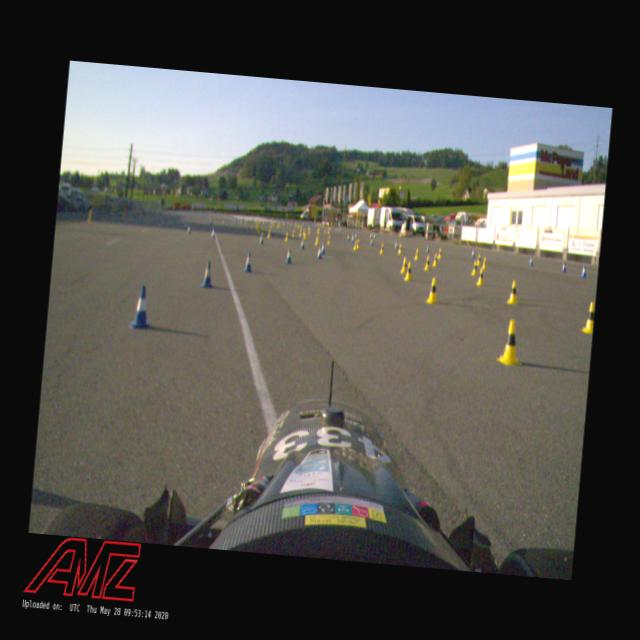blue_cone: (128, 283, 154, 331), (200, 260, 214, 288), (244, 251, 252, 272), (284, 247, 292, 264), (580, 264, 587, 278), (316, 244, 322, 259), (560, 260, 567, 272), (320, 242, 326, 255), (528, 254, 534, 266), (300, 238, 305, 250), (470, 248, 476, 258)
yellow_cone: (498, 317, 522, 367), (582, 300, 595, 332), (426, 276, 439, 304), (506, 278, 520, 304), (476, 266, 486, 288), (403, 261, 413, 281), (399, 256, 408, 274), (423, 253, 431, 270), (470, 260, 478, 276), (431, 252, 438, 268), (413, 247, 420, 260), (482, 256, 488, 270), (476, 253, 482, 266), (378, 242, 384, 254), (437, 247, 442, 260)
